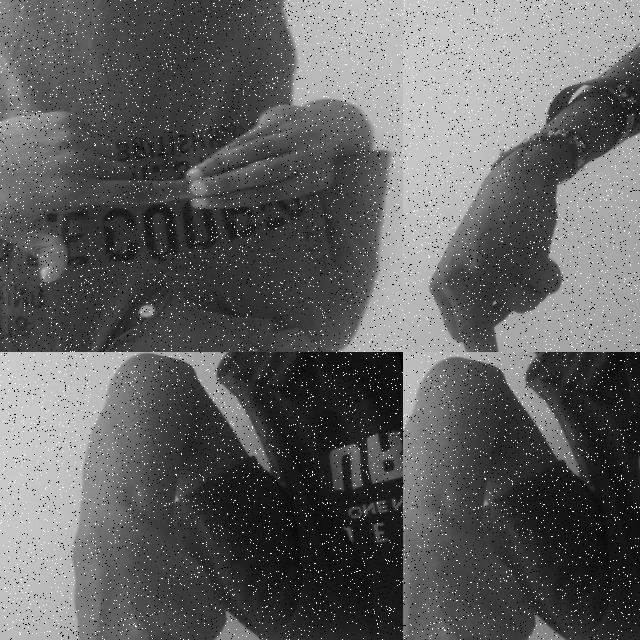Five Fathers: (0, 56, 357, 305)
Middle Finger: (403, 125, 605, 352)
Reversed Victory: (25, 460, 265, 640), (403, 464, 574, 640)
